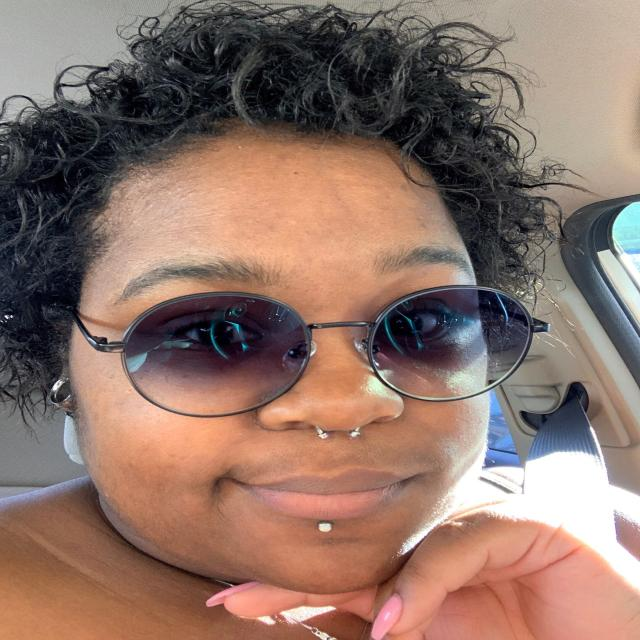2_gafas: (49, 284, 550, 418)
